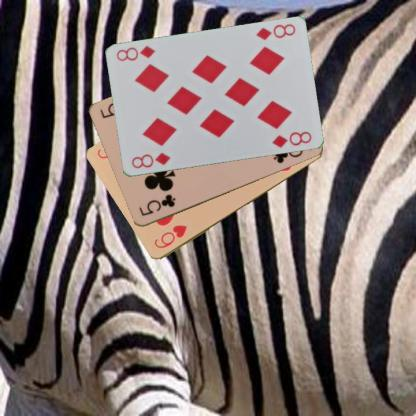5c: (136, 192, 177, 218)
6h: (152, 223, 188, 250)
8d: (128, 150, 172, 170), (253, 22, 296, 42)
